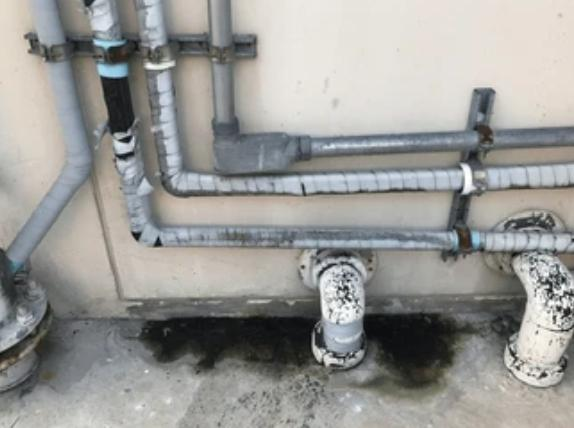water accumulation: (139, 316, 320, 373), (362, 312, 471, 388)
